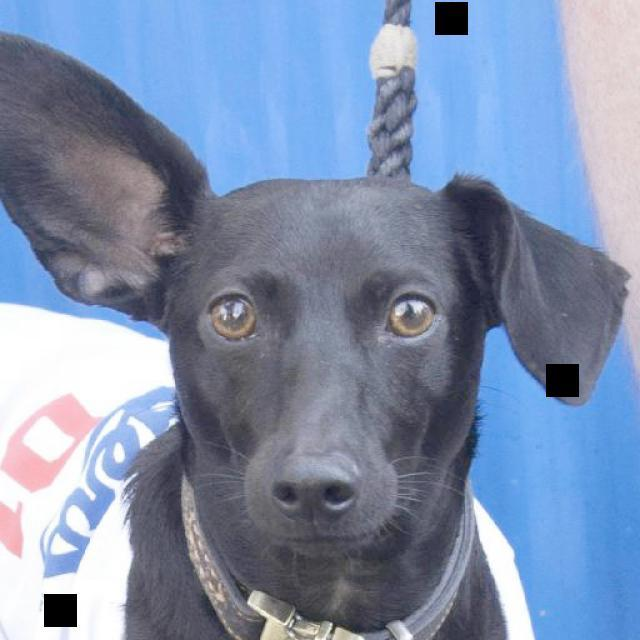adult_dog: (0, 25, 635, 640)
